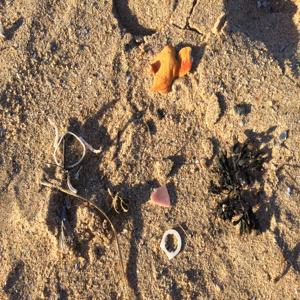plastic: (148, 42, 202, 93), (48, 129, 104, 173), (156, 227, 194, 267)
